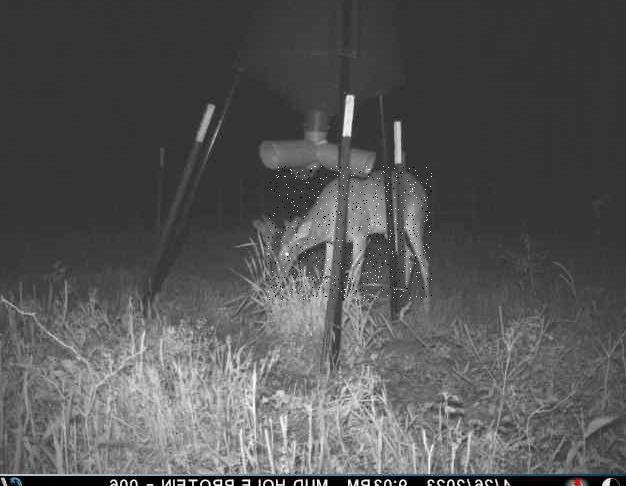Deer: (267, 166, 431, 301)
